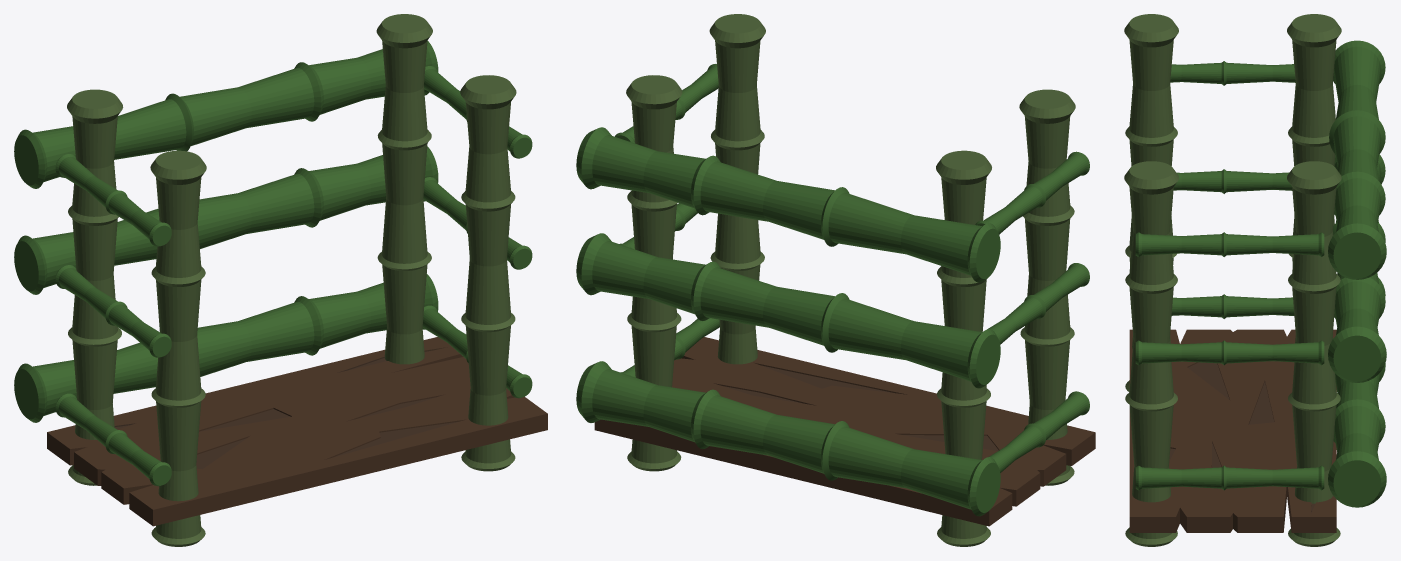
Rendered from echafaudage qui soutien la racine 2.1.fbx.
3 views of the same model, side by side, from view 1: azimuth 30°, elevation 25°; view 2: azimuth 150°, elevation 25°; view 3: azimuth 270°, elevation 25° (orthographic). The views are drawn at different scales.
Visible parts, largest first — view 1: Cube.003, bambou soutien.039, bambou soutien 2.056, bambou soutien 2.057, bambou soutien 2.055, bambou soutien.041, bambou soutien.040, bambou soutien 2.054, bambou soutien.030, bambou soutien.031, bambou soutien.032, bambou soutien.033 (+2 smaller); view 2: Cube.003, bambou soutien.039, bambou soutien.040, bambou soutien.041, bambou soutien 2.057, bambou soutien 2.056, bambou soutien 2.055, bambou soutien 2.054, bambou soutien.030, bambou soutien.031, bambou soutien.032, bambou soutien.035 (+1 smaller); view 3: Cube.003, bambou soutien 2.056, bambou soutien 2.055, bambou soutien.039, bambou soutien 2.057, bambou soutien 2.054, bambou soutien.041, bambou soutien.040, bambou soutien.034, bambou soutien.033, bambou soutien.035, bambou soutien.030 (+2 smaller).
Part boxes in pixels (box(x1,y1,x2,y2)): Cube.003: box(47, 337, 547, 526); bambou soutien.039: box(14, 41, 438, 188); bambou soutien 2.056: box(460, 75, 516, 471); bambou soutien 2.057: box(150, 150, 206, 546); bambou soutien 2.055: box(376, 14, 432, 364); bambou soutien.041: box(14, 274, 438, 422); bambou soutien.040: box(14, 146, 438, 294); bambou soutien 2.054: box(67, 89, 123, 485); bambou soutien.030: box(55, 154, 171, 246); bambou soutien.031: box(55, 265, 171, 357); bambou soutien.032: box(55, 393, 171, 486); bambou soutien.033: box(422, 305, 532, 398); Cube.003: box(594, 337, 1095, 526); bambou soutien.039: box(576, 127, 1000, 282); bambou soutien.040: box(576, 233, 1000, 388); bambou soutien.041: box(576, 361, 1000, 516); bambou soutien 2.057: box(1019, 89, 1075, 485); bambou soutien 2.056: box(709, 14, 765, 364); bambou soutien 2.055: box(626, 75, 682, 471); bambou soutien 2.054: box(936, 150, 991, 546); bambou soutien.030: box(975, 151, 1089, 234); bambou soutien.031: box(981, 263, 1089, 344); bambou soutien.032: box(989, 391, 1089, 472); bambou soutien.035: box(615, 64, 718, 143); Cube.003: box(1129, 329, 1336, 532); bambou soutien 2.056: box(1124, 161, 1178, 546); bambou soutien 2.055: box(1287, 161, 1341, 546); bambou soutien.039: box(1328, 40, 1386, 279); bambou soutien 2.057: box(1124, 14, 1178, 392); bambou soutien 2.054: box(1287, 14, 1341, 391); bambou soutien.041: box(1328, 277, 1386, 507); bambou soutien.040: box(1328, 154, 1386, 382); bambou soutien.034: box(1135, 340, 1324, 365); bambou soutien.033: box(1135, 465, 1324, 490); bambou soutien.035: box(1135, 232, 1324, 256); bambou soutien.030: box(1170, 61, 1295, 85).
Size of the model in its own units: 858 by 764 by 496.
